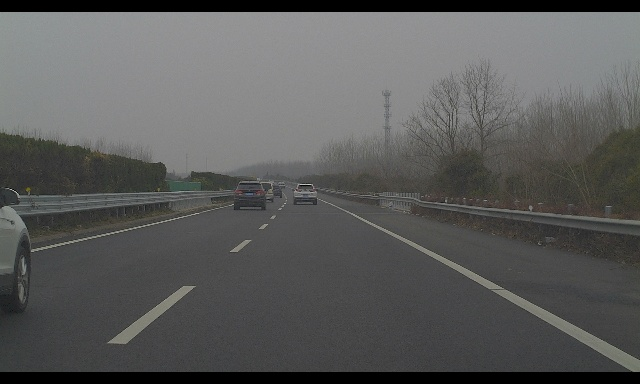car: (233, 180, 268, 211), (292, 183, 318, 205), (255, 182, 275, 202), (269, 184, 282, 198), (277, 182, 286, 189), (268, 179, 275, 185)
